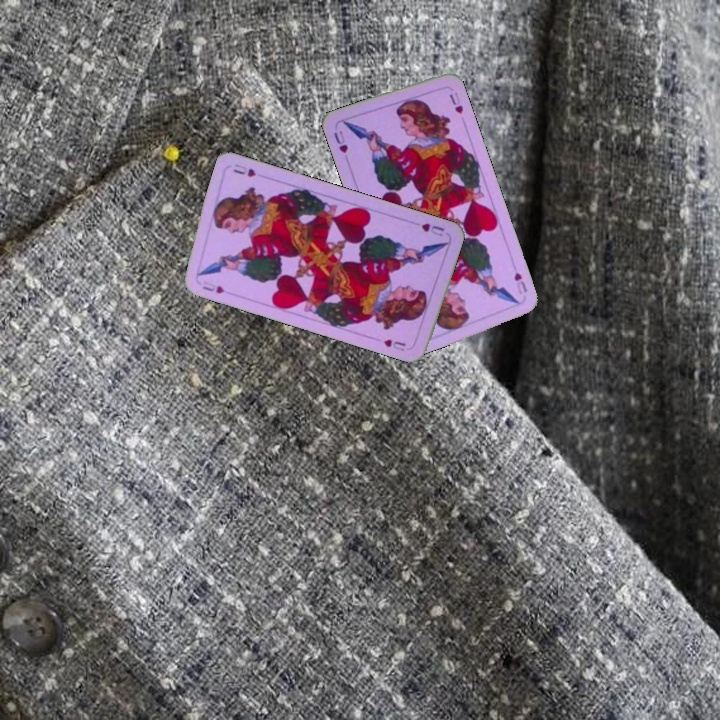HU: (330, 126, 351, 164), (417, 219, 447, 239), (510, 267, 530, 295), (198, 277, 227, 296)
